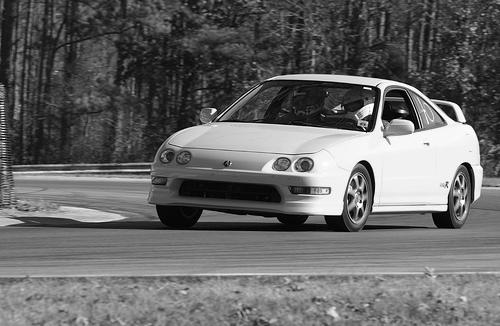car: (146, 73, 486, 236)
